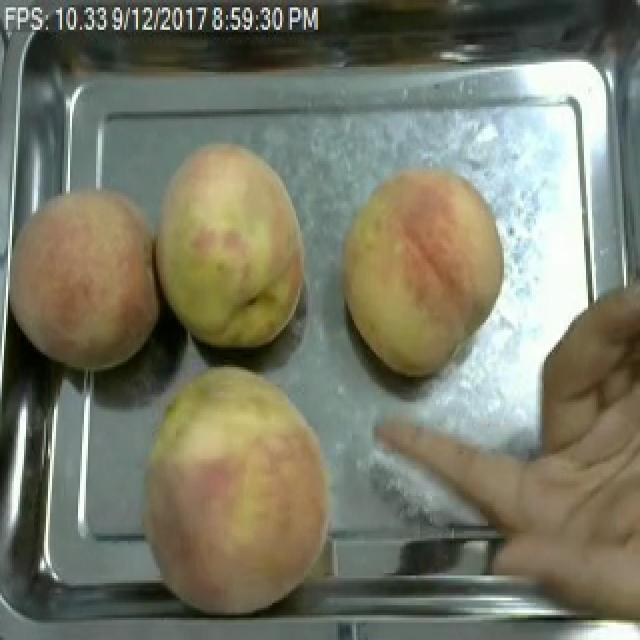Fruit: (132, 352, 346, 620), (330, 156, 514, 384), (150, 132, 318, 360), (8, 173, 166, 380)
